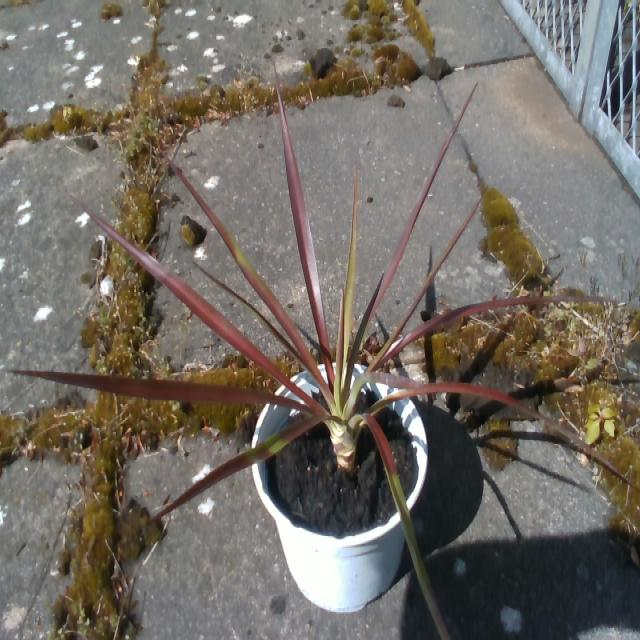Yucca-aloifolia: (68, 192, 319, 412), (167, 157, 318, 373), (356, 88, 474, 337), (374, 383, 626, 479), (364, 413, 445, 631), (158, 416, 326, 513), (276, 72, 328, 364), (11, 369, 319, 412), (381, 296, 579, 361), (390, 199, 479, 340), (199, 265, 301, 360), (342, 169, 356, 361), (353, 372, 413, 388)
